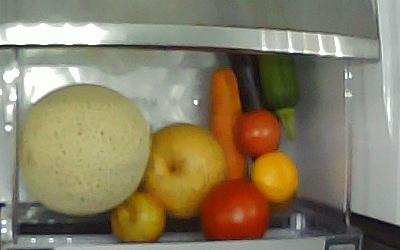carrot: (208, 64, 247, 180)
eggplant: (225, 52, 280, 122)
melon: (19, 82, 150, 215)
pear: (139, 121, 228, 218)
prune: (110, 191, 165, 242), (231, 107, 281, 157)
tangerine: (250, 150, 299, 202)
tomato: (199, 177, 270, 239)
zucchini: (258, 53, 300, 140)
